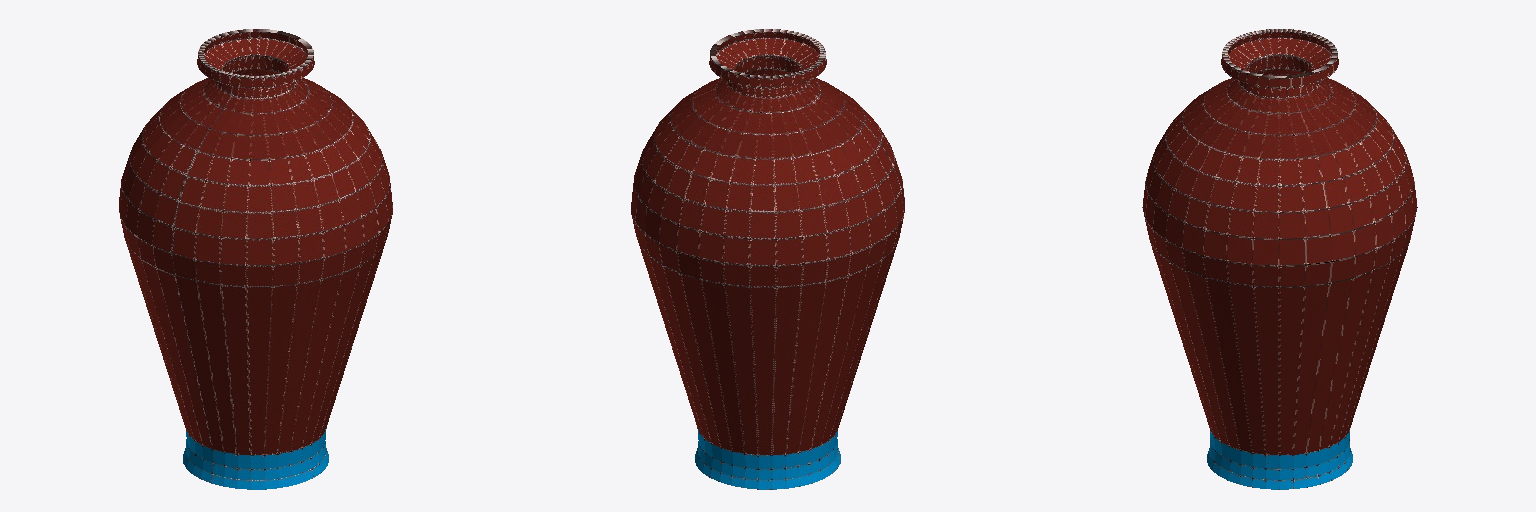
The picture shows the model from 3 angles: view 1: azimuth 30°, elevation 25°; view 2: azimuth 150°, elevation 25°; view 3: azimuth 270°, elevation 25°; orthographic projection.
Visible parts, largest first — view 1: Sphere; view 2: Sphere; view 3: Sphere.
Part boxes in pixels (x1,y1,x2,y2): Sphere: (119,29,392,489); Sphere: (631,29,904,489); Sphere: (1142,29,1417,489).
Bounding box in the file's own units: 1.4 × 2.27 × 1.4.
1 materials, 1 textured.